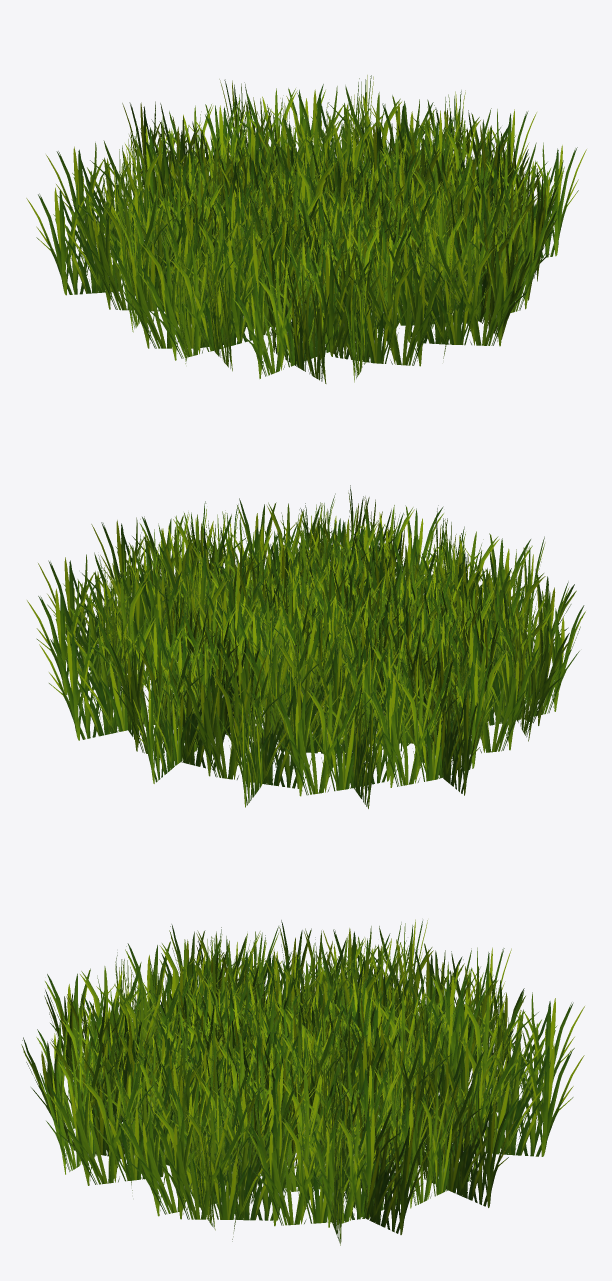
File: grass_low.fbx
The picture shows the model from 3 angles, top to bottom: view 1: azimuth 30°, elevation 25°; view 2: azimuth 150°, elevation 25°; view 3: azimuth 270°, elevation 25°; orthographic projection. The views are drawn at different scales.
Parts seen in each view (by area): view 1: Plane.054; view 2: Plane.054; view 3: Plane.054.
Boxes of the visible parts, bbox=[...] form: Plane.054: bbox=[26, 75, 586, 383]; Plane.054: bbox=[27, 485, 585, 808]; Plane.054: bbox=[21, 919, 584, 1245].
Bounding box in the file's own units: 675 × 229 × 657.
